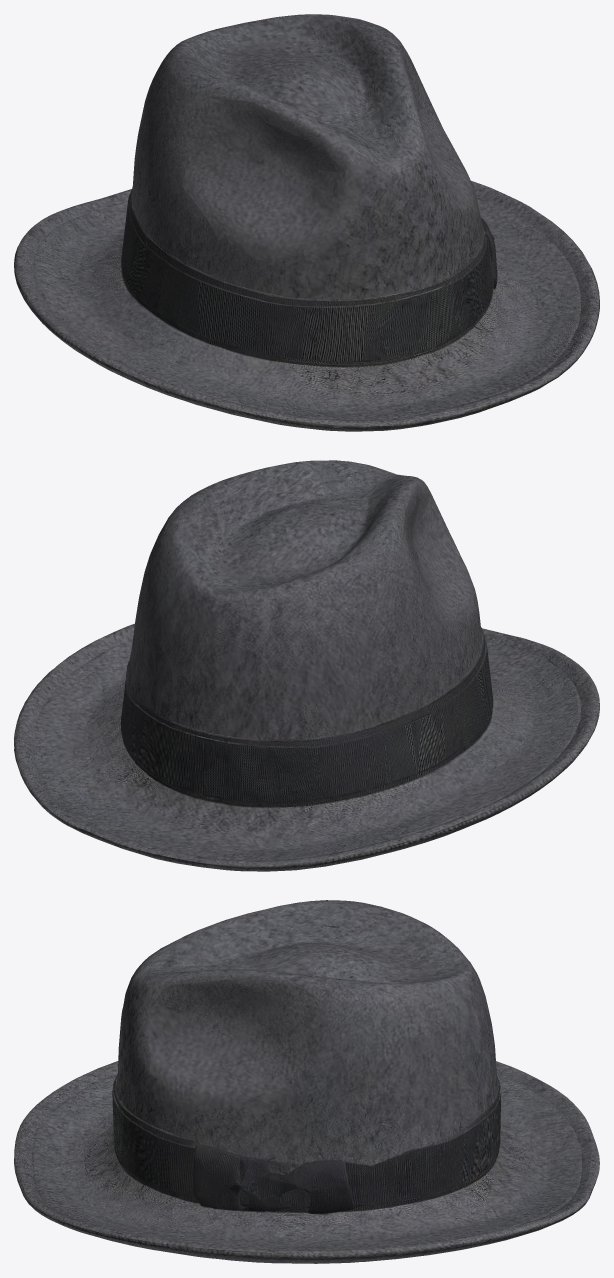
File: mk_fedora.glb
3 views of the same model, one above another, from view 1: azimuth 30°, elevation 25°; view 2: azimuth 150°, elevation 25°; view 3: azimuth 270°, elevation 25° (orthographic). The views are drawn at different scales.
Bounding box in the file's own units: 1.7 × 0.8747 × 1.9.
1 material, 1 textured.
